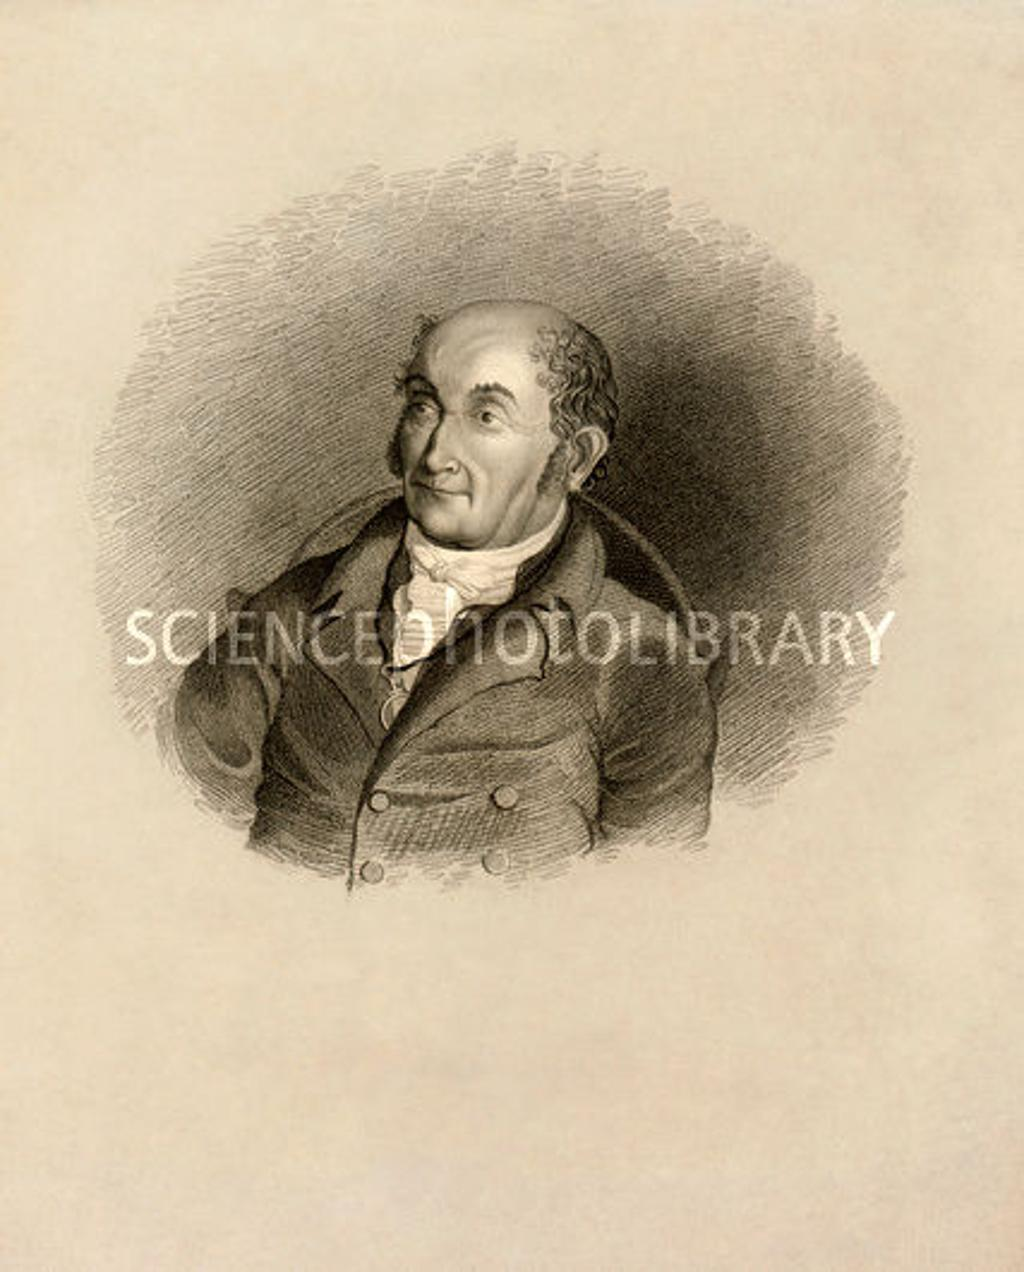face: (399, 317, 558, 546)
